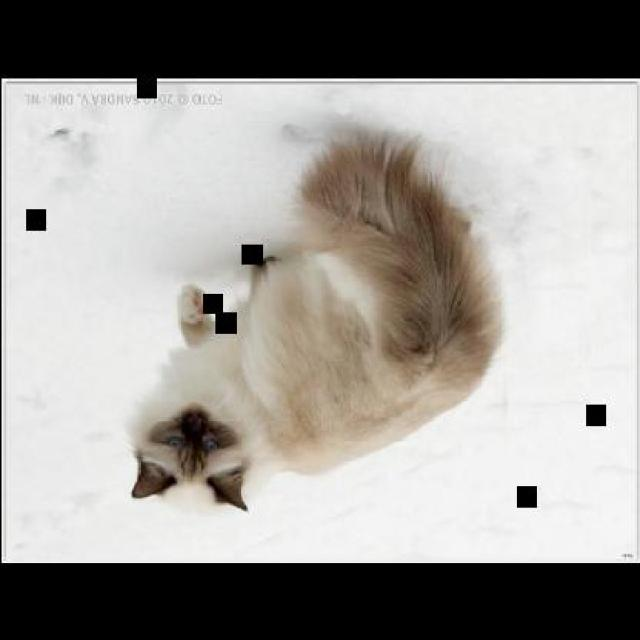unauthorized: (126, 125, 505, 512)
